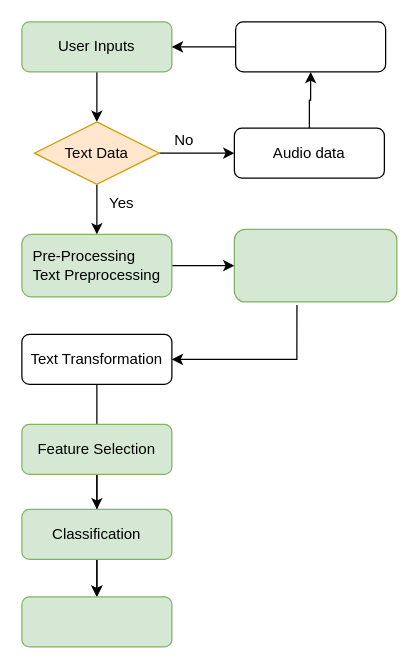
Image size: 419x669. Some labels were removed from this diagram. The shapes that lost their labels are listed below. From the top down, each one's centre as x and y in pixels, then its label:
(310,46): Audio Processing
(315,265): 1. Tokenizer 2. Stopwords removal 3. etc.
(96,621): Model Evaluation
